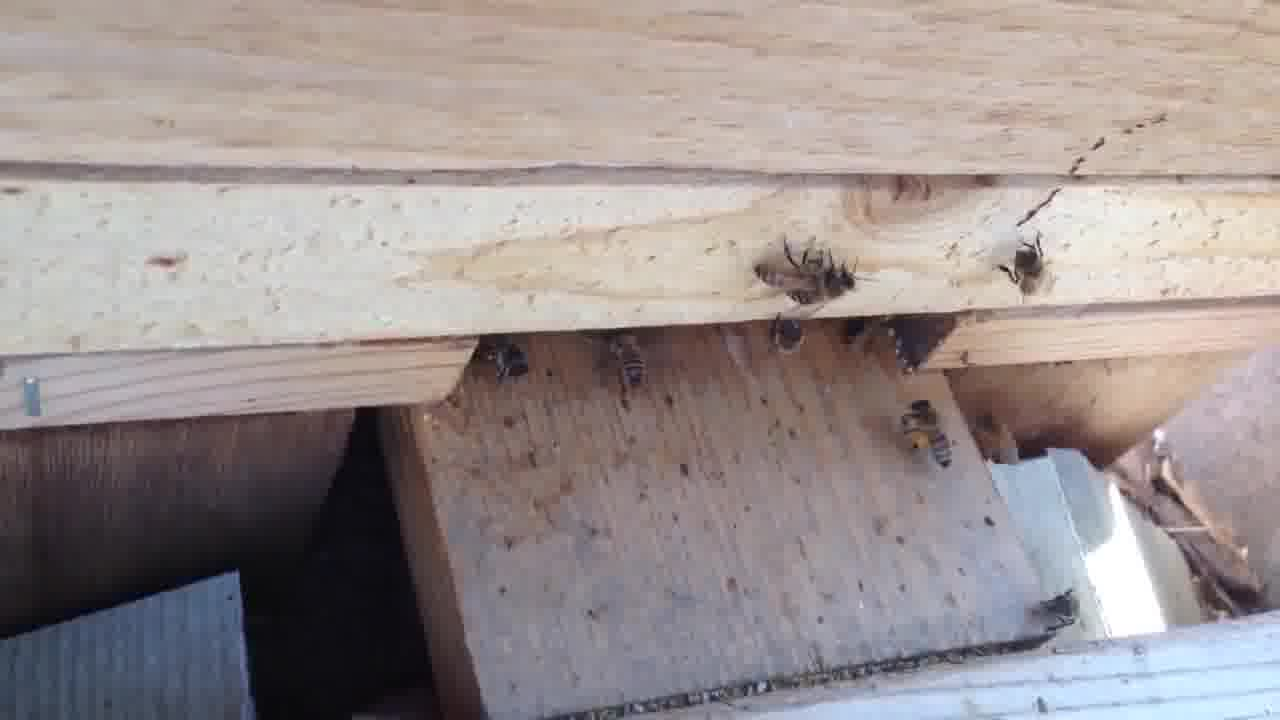pollen: (899, 400, 959, 470)
